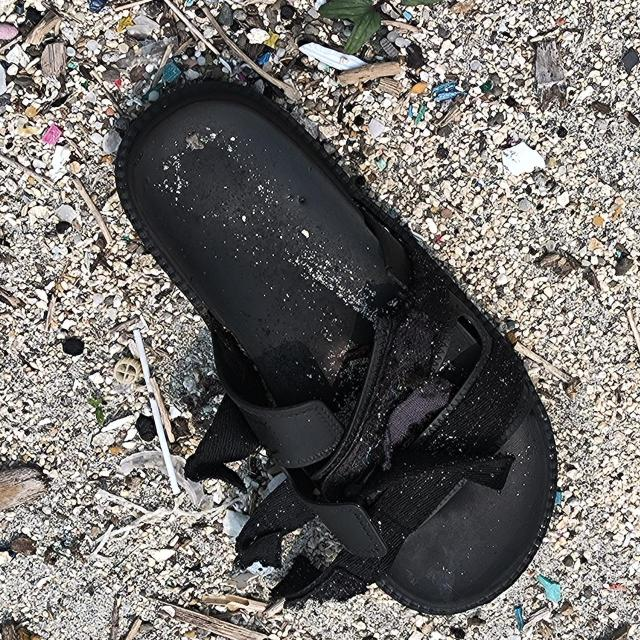rubber_waste: (117, 80, 561, 610)
